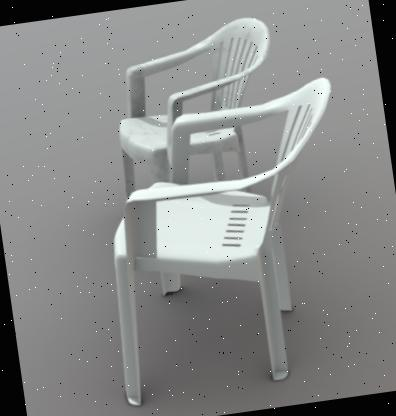chair: (80, 74, 374, 409), (94, 7, 296, 194)
